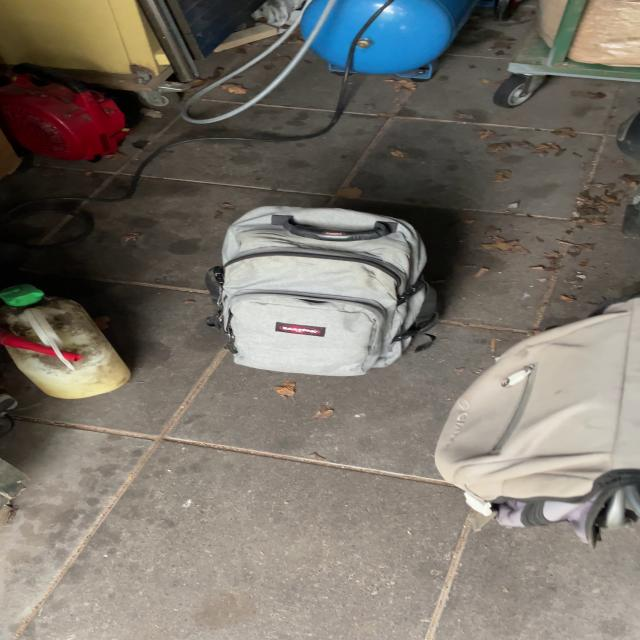backpack: (197, 199, 452, 382)
